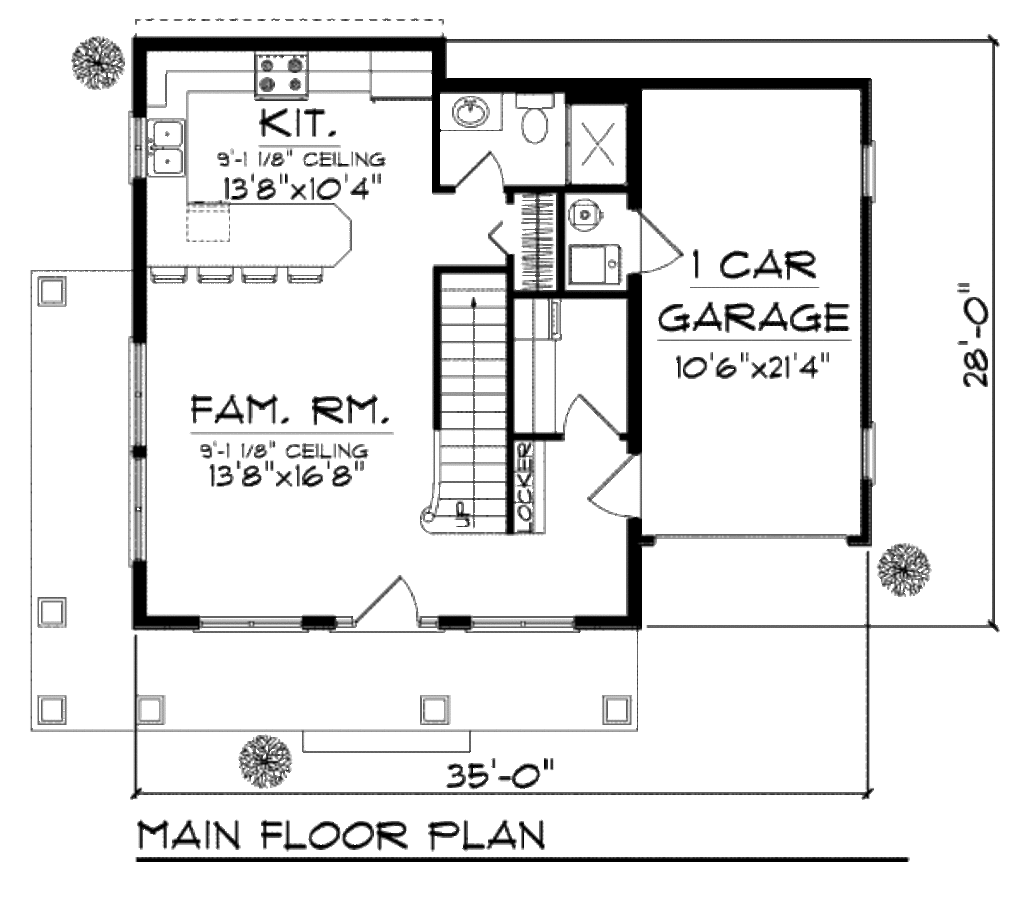door: (348, 571, 427, 631), (584, 449, 644, 527), (630, 208, 686, 274), (449, 141, 511, 200), (564, 390, 622, 441)
kitchen_bar: (160, 56, 403, 100)
large_sink: (511, 93, 563, 156)
small_sink: (444, 96, 508, 135)
stairs: (433, 261, 514, 539)
twin_sink: (148, 107, 185, 182)
window: (126, 341, 149, 563), (126, 109, 154, 178), (203, 615, 306, 633), (469, 615, 573, 630), (863, 135, 877, 200), (863, 423, 878, 476)
